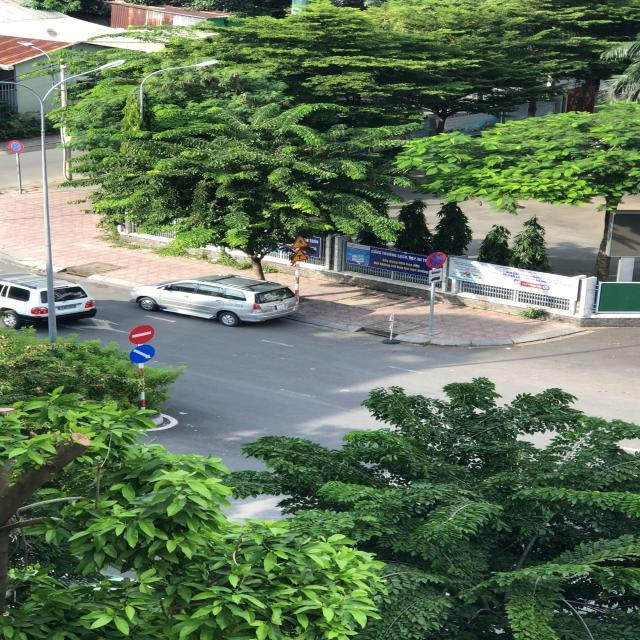Bien bao cam di nguoc chieu: (127, 323, 157, 345)
Bien bao cam dung xe va do xe: (424, 250, 449, 269)
Bien bao duong giao nhau: (288, 249, 312, 263)
Bien bao duong nguoi di bo cat ngang: (288, 235, 313, 250)
Bien bao huong phai di vong chuong ngai vat: (129, 344, 158, 364)
